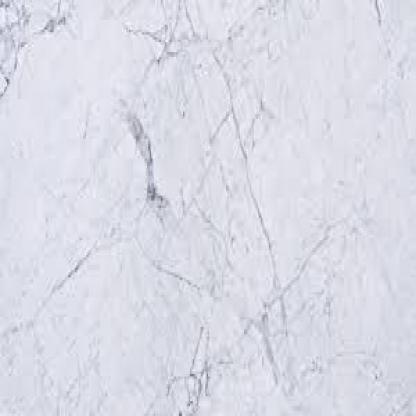Metamorphic_Marble: (4, 8, 415, 414)
